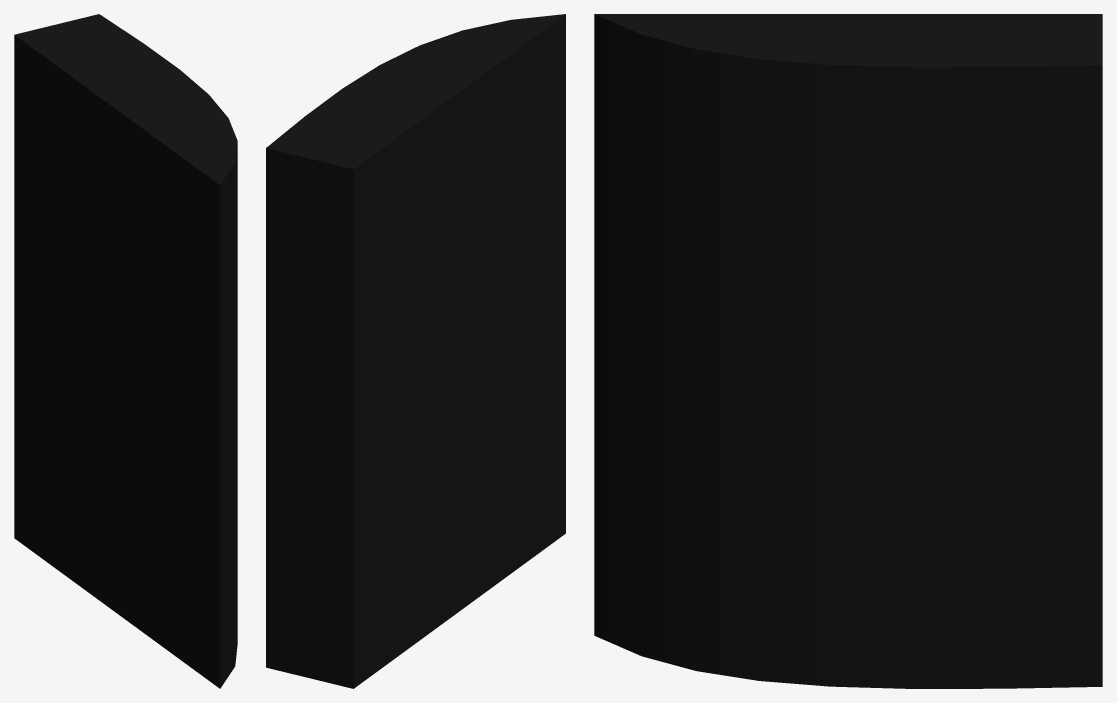
The model's file is boat pin.FBX.
3 views of the same model, side by side, from view 1: azimuth 30°, elevation 25°; view 2: azimuth 150°, elevation 25°; view 3: azimuth 270°, elevation 25° (orthographic). The views are drawn at different scales.
Visible parts, largest first — view 1: Shape1; view 2: Shape1; view 3: Shape1.
Boxes of the visible parts, x1,y1,x2,y2 form: Shape1: (14,14,237,688); Shape1: (266,14,565,688); Shape1: (594,14,1102,688).
Bounding box in the file's own units: 0.1837 × 1 × 0.7408.
